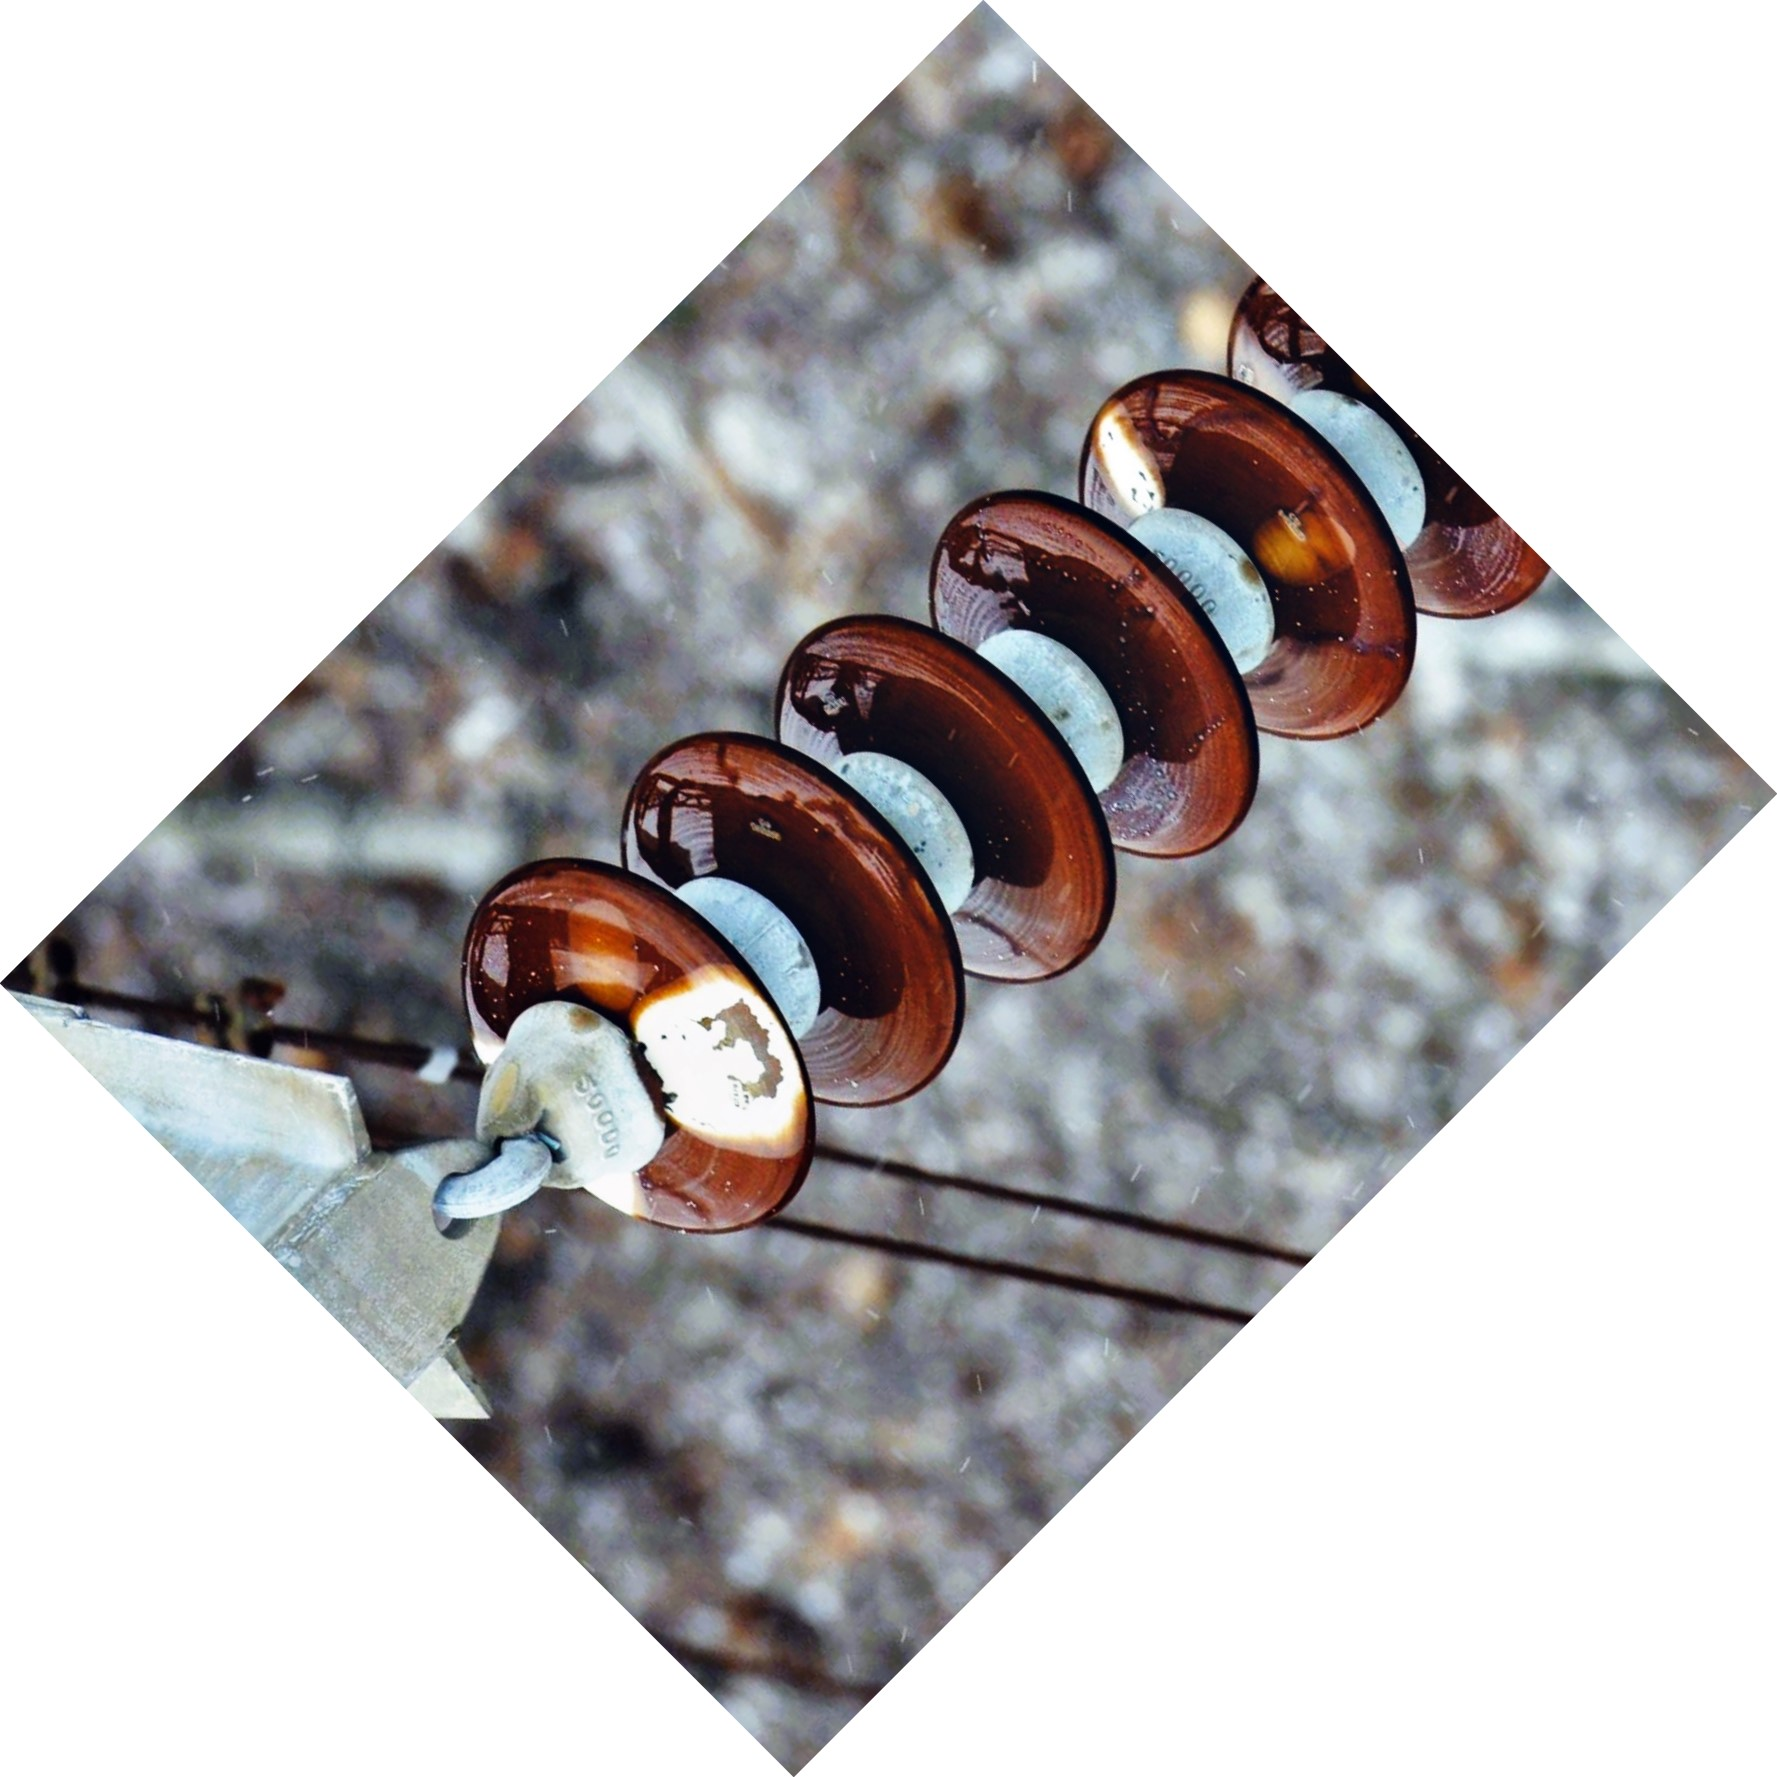Insulator flashover: (448, 848, 827, 1250)
